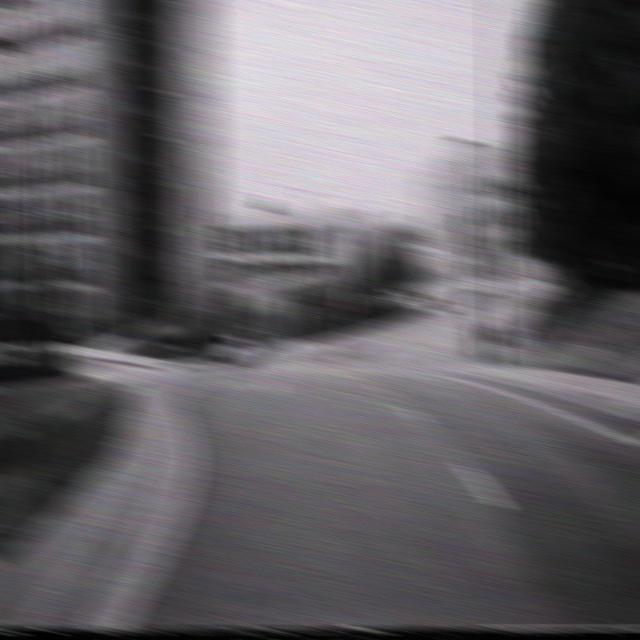stop_sign: (456, 287, 479, 315)
